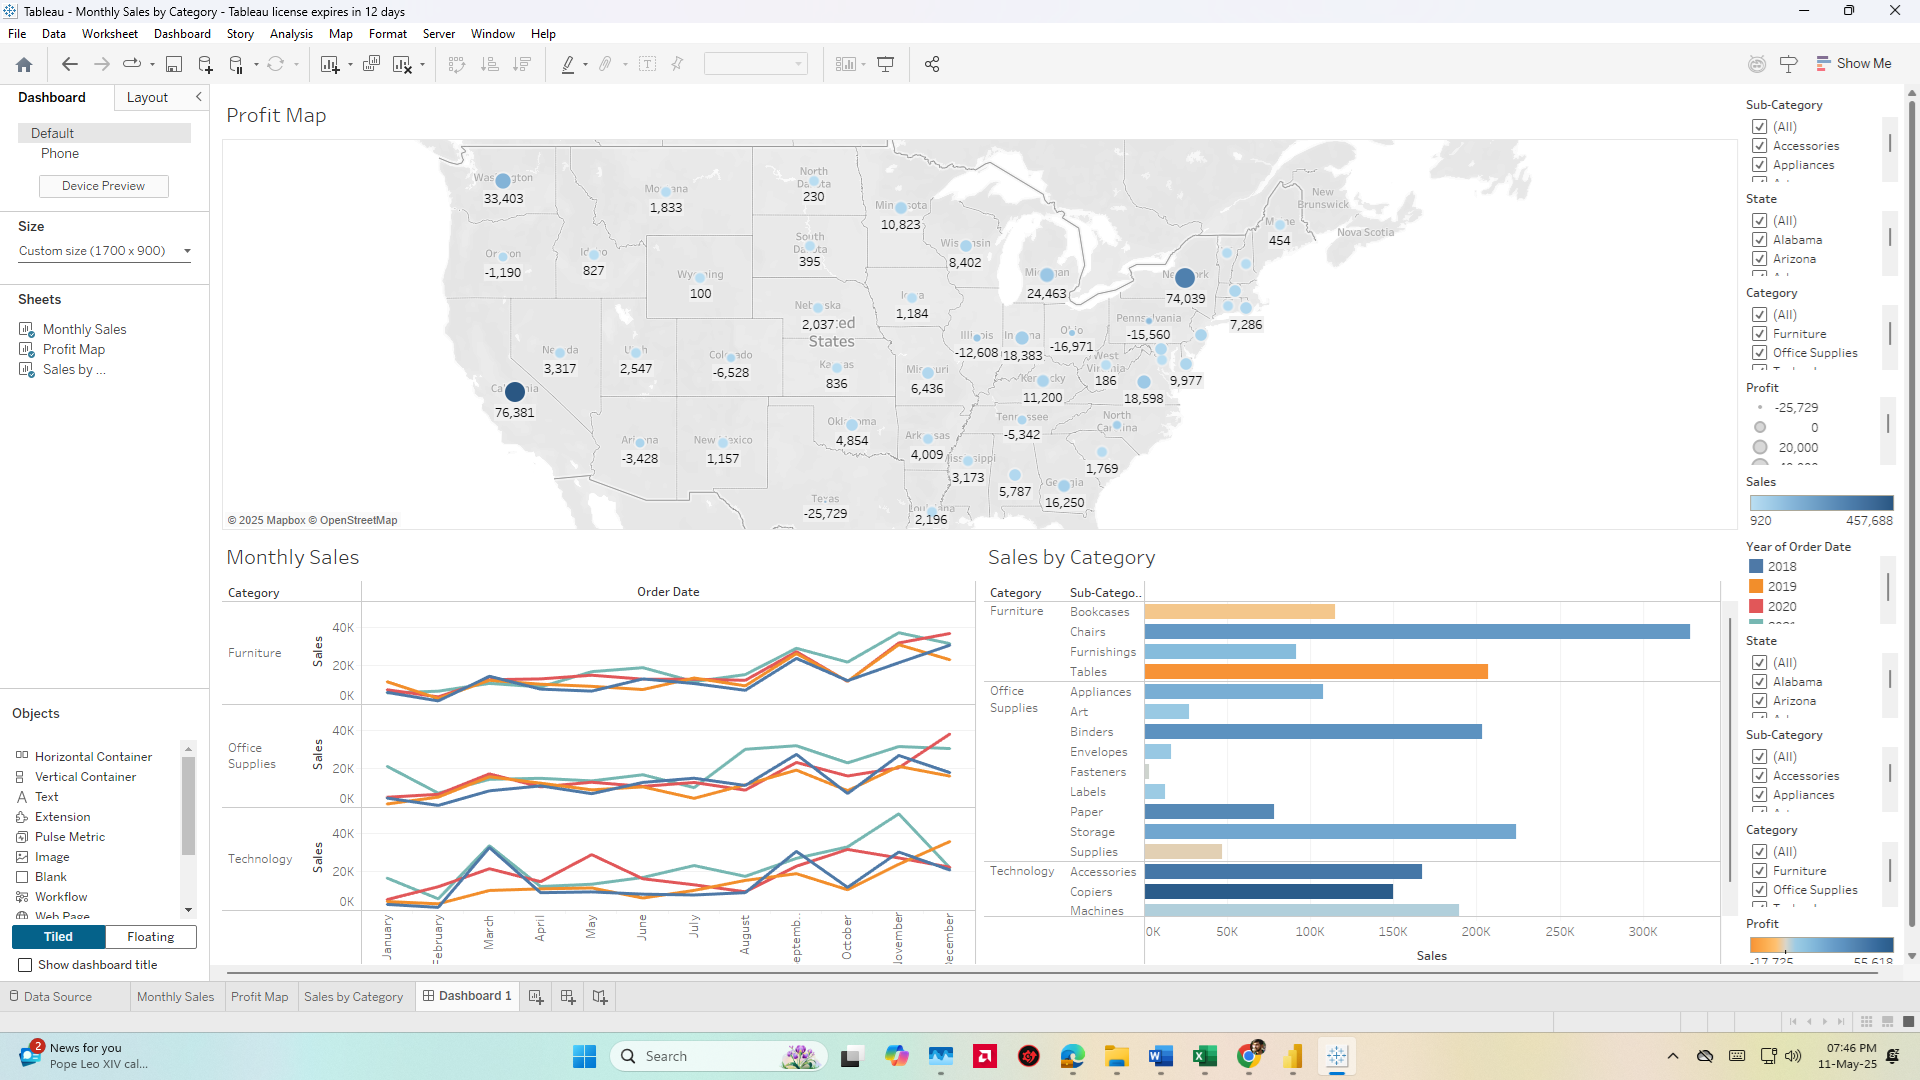

This screenshot's page, from the dashboard's own definition file:
{"tool":"tableau","page":{"name":"Dashboard 1","canvas":[1000,800],"ordinal":0},"visuals":[{"type":"worksheet","title":"Profit Map","mark":"Automatic","box":[8,8,824,392]},{"type":"filter","title":"Profit Map","param":"[federated.1wuuxht1gxqypi112y5tw1cv2jit].[none:Sub-Category:nk]","box":[832,8,160,81.7]},{"type":"filter","title":"Profit Map","param":"[federated.1wuuxht1gxqypi112y5tw1cv2jit].[none:State:nk]","box":[832,89.7,160,81.7]},{"type":"filter","title":"Profit Map","param":"[federated.1wuuxht1gxqypi112y5tw1cv2jit].[none:Category:nk]","box":[832,171.5,160,81.7]},{"type":"legend","title":"Profit Map","param":"[federated.1wuuxht1gxqypi112y5tw1cv2jit].[sum:Profit:qk]","box":[832,253.2,160,81.7]},{"type":"legend","title":"Profit Map","param":"[federated.1wuuxht1gxqypi112y5tw1cv2jit].[sum:Sales:qk]","box":[832,335,160,65]},{"type":"worksheet","title":"Monthly Sales","mark":"Automatic","rows":["Category","Sales"],"cols":["Order Date"],"box":[8,400,412,392]},{"type":"worksheet","title":"Sales by Category","mark":"Automatic","rows":["Category","Sub-Category"],"cols":["Sales"],"box":[420,400,412,392]},{"type":"legend","title":"Monthly Sales","param":"[federated.1wuuxht1gxqypi112y5tw1cv2jit].[yr:Order Date:ok]","box":[832,400,160,81.7]},{"type":"filter","title":"Sales by Category","param":"[federated.1wuuxht1gxqypi112y5tw1cv2jit].[none:State:nk]","box":[832,481.7,160,81.7]},{"type":"filter","title":"Sales by Category","param":"[federated.1wuuxht1gxqypi112y5tw1cv2jit].[none:Sub-Category:nk]","box":[832,563.5,160,81.7]},{"type":"filter","title":"Sales by Category","param":"[federated.1wuuxht1gxqypi112y5tw1cv2jit].[none:Category:nk]","box":[832,645.2,160,81.7]},{"type":"legend","title":"Sales by Category","param":"[federated.1wuuxht1gxqypi112y5tw1cv2jit].[sum:Profit:qk]","box":[832,727,160,65]}]}

Visuals, with their boxes on the page's 1000x800 design canvas (x1, y1, x2, y2). These are canvas units, not pixel positions in the 1920x1080 screenshot, which may show the page scaled, cropped or inside an application window:
"Profit Map" worksheet: bbox=[8, 8, 832, 400]
"Profit Map" filter: bbox=[832, 8, 992, 90]
"Profit Map" filter: bbox=[832, 90, 992, 171]
"Profit Map" filter: bbox=[832, 172, 992, 253]
"Profit Map" legend: bbox=[832, 253, 992, 335]
"Profit Map" legend: bbox=[832, 335, 992, 400]
"Monthly Sales" worksheet: bbox=[8, 400, 420, 792]
"Sales by Category" worksheet: bbox=[420, 400, 832, 792]
"Monthly Sales" legend: bbox=[832, 400, 992, 482]
"Sales by Category" filter: bbox=[832, 482, 992, 563]
"Sales by Category" filter: bbox=[832, 564, 992, 645]
"Sales by Category" filter: bbox=[832, 645, 992, 727]
"Sales by Category" legend: bbox=[832, 727, 992, 792]
